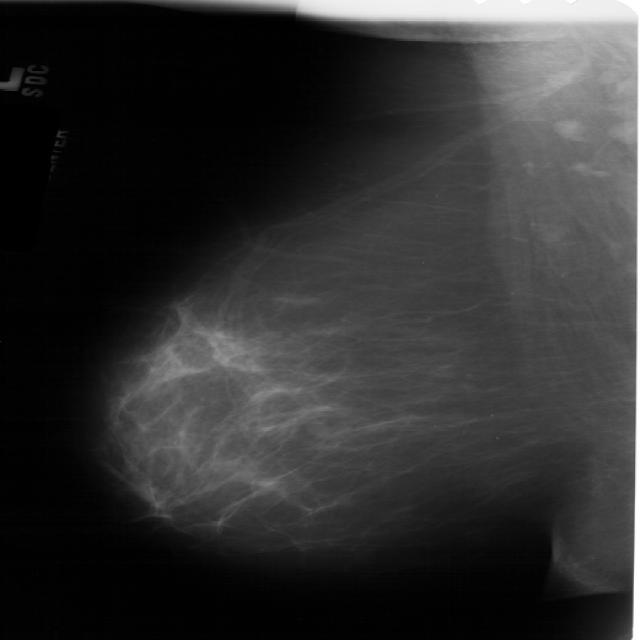tumour: (304, 422, 350, 437)
